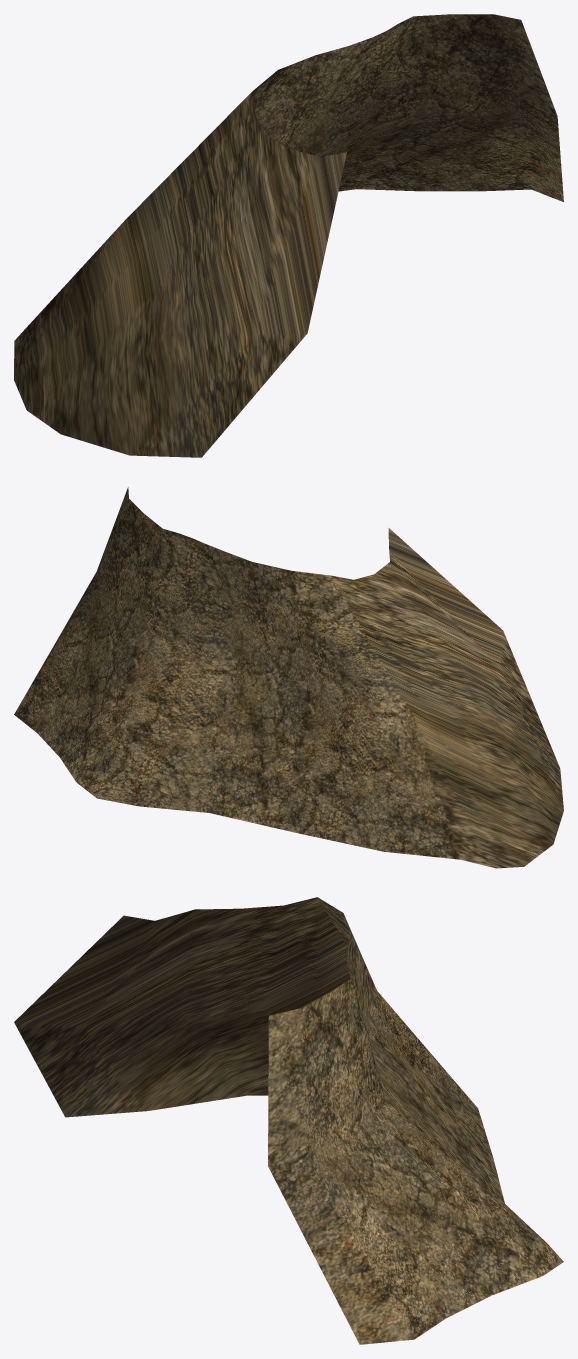
Rendered from CH09_SMAUG_PLAYSURFACE_LONELYMOUNTAIN_LM_PLAYSURFACE18.fbx.
The picture shows the model from 3 angles, top to bottom: view 1: azimuth 30°, elevation 25°; view 2: azimuth 150°, elevation 25°; view 3: azimuth 270°, elevation 25°; orthographic projection. The views are drawn at different scales.
Parts seen in each view (by area): view 1: CH09_SMAUG_PLAYSURFACE_LONELYMOUNTAIN_LM_PLAYSURFACE18; view 2: CH09_SMAUG_PLAYSURFACE_LONELYMOUNTAIN_LM_PLAYSURFACE18; view 3: CH09_SMAUG_PLAYSURFACE_LONELYMOUNTAIN_LM_PLAYSURFACE18.
Boxes of the visible parts, left/top/right/bottom form: CH09_SMAUG_PLAYSURFACE_LONELYMOUNTAIN_LM_PLAYSURFACE18: left=14, top=14, right=563, bottom=457; CH09_SMAUG_PLAYSURFACE_LONELYMOUNTAIN_LM_PLAYSURFACE18: left=14, top=487, right=563, bottom=868; CH09_SMAUG_PLAYSURFACE_LONELYMOUNTAIN_LM_PLAYSURFACE18: left=14, top=897, right=563, bottom=1344.
Bounding box in the file's own units: 309207 × 158246 × 218130.
1 material, 1 textured.
